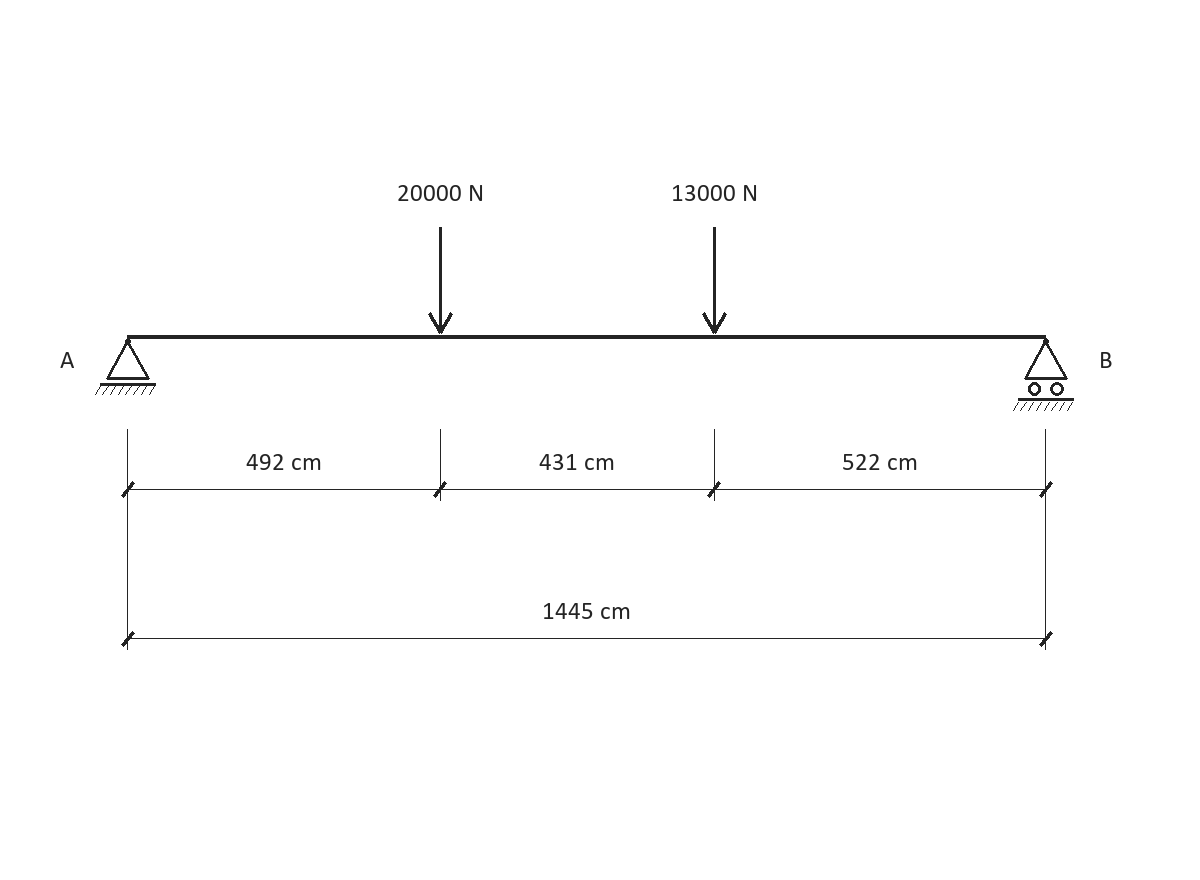pin_support: (95, 338, 156, 395)
point_load: (428, 227, 453, 334), (702, 227, 727, 334)
roller_support: (1013, 338, 1074, 411)
